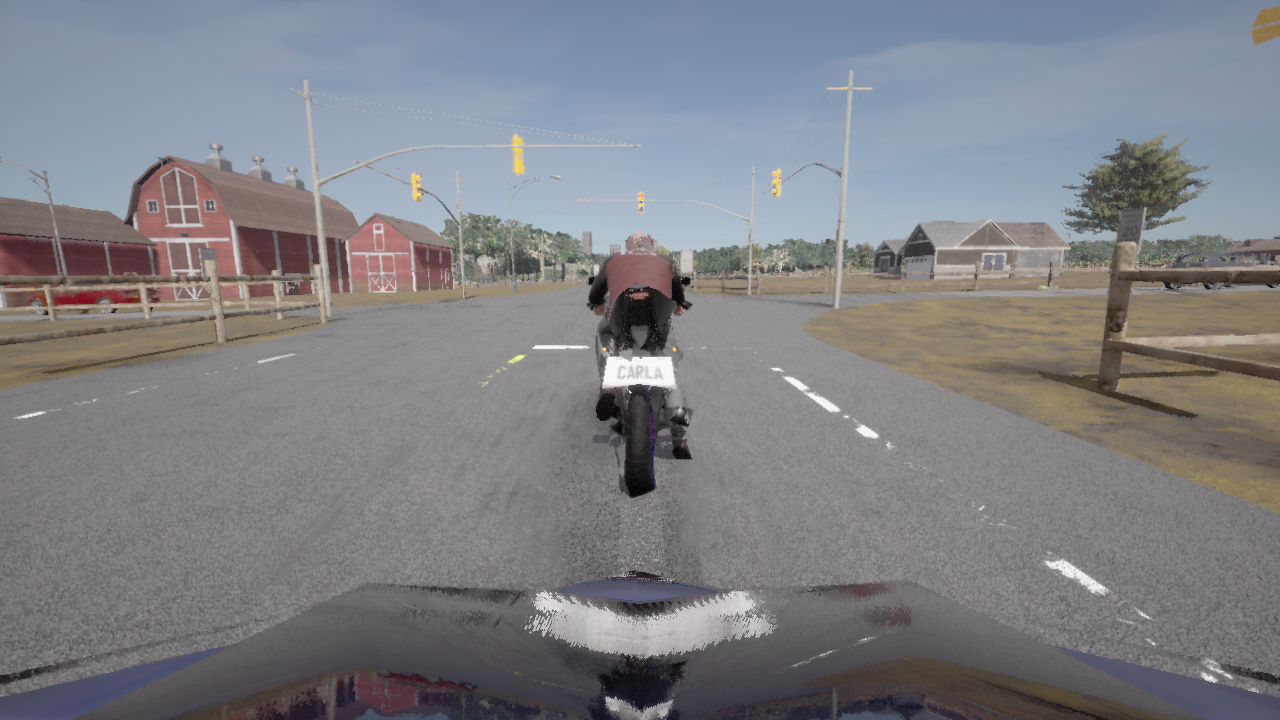cyclist: (0, 569, 1279, 719), (587, 275, 693, 497), (26, 283, 161, 316), (1162, 252, 1279, 290)
